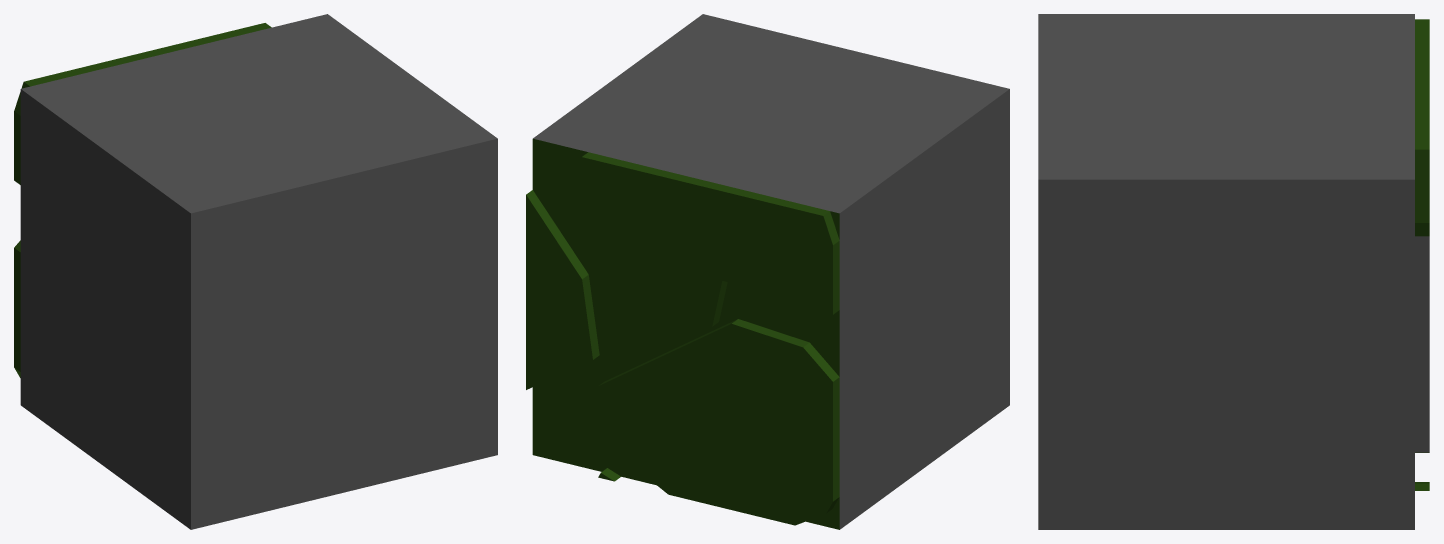
Rendered from BR Floor.fbx.
The picture shows the model from 3 angles, left to right: view 1: azimuth 30°, elevation 25°; view 2: azimuth 150°, elevation 25°; view 3: azimuth 270°, elevation 25°; orthographic projection. The views are drawn at different scales.
Visible parts, largest first — view 1: Bottom right; view 2: Bottom right; view 3: Bottom right.
Boxes of the visible parts, x1,y1,x2,y2 form: Bottom right: (14, 14, 497, 529); Bottom right: (526, 14, 1009, 529); Bottom right: (1038, 14, 1429, 529).
Size of the model in its own units: 100 by 100 by 98.74.
